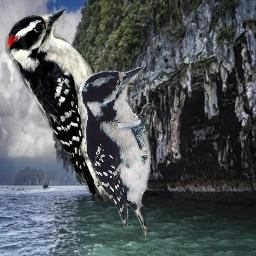Woodpecker: (5, 8, 145, 201), (81, 67, 156, 238)
